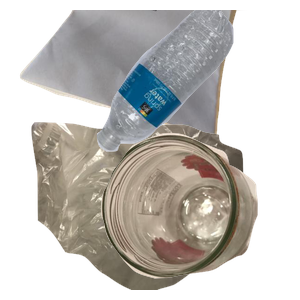glass: (98, 131, 300, 300)
paper: (17, 10, 254, 141)
plastic: (94, 10, 300, 154)
trash: (29, 120, 265, 300)
